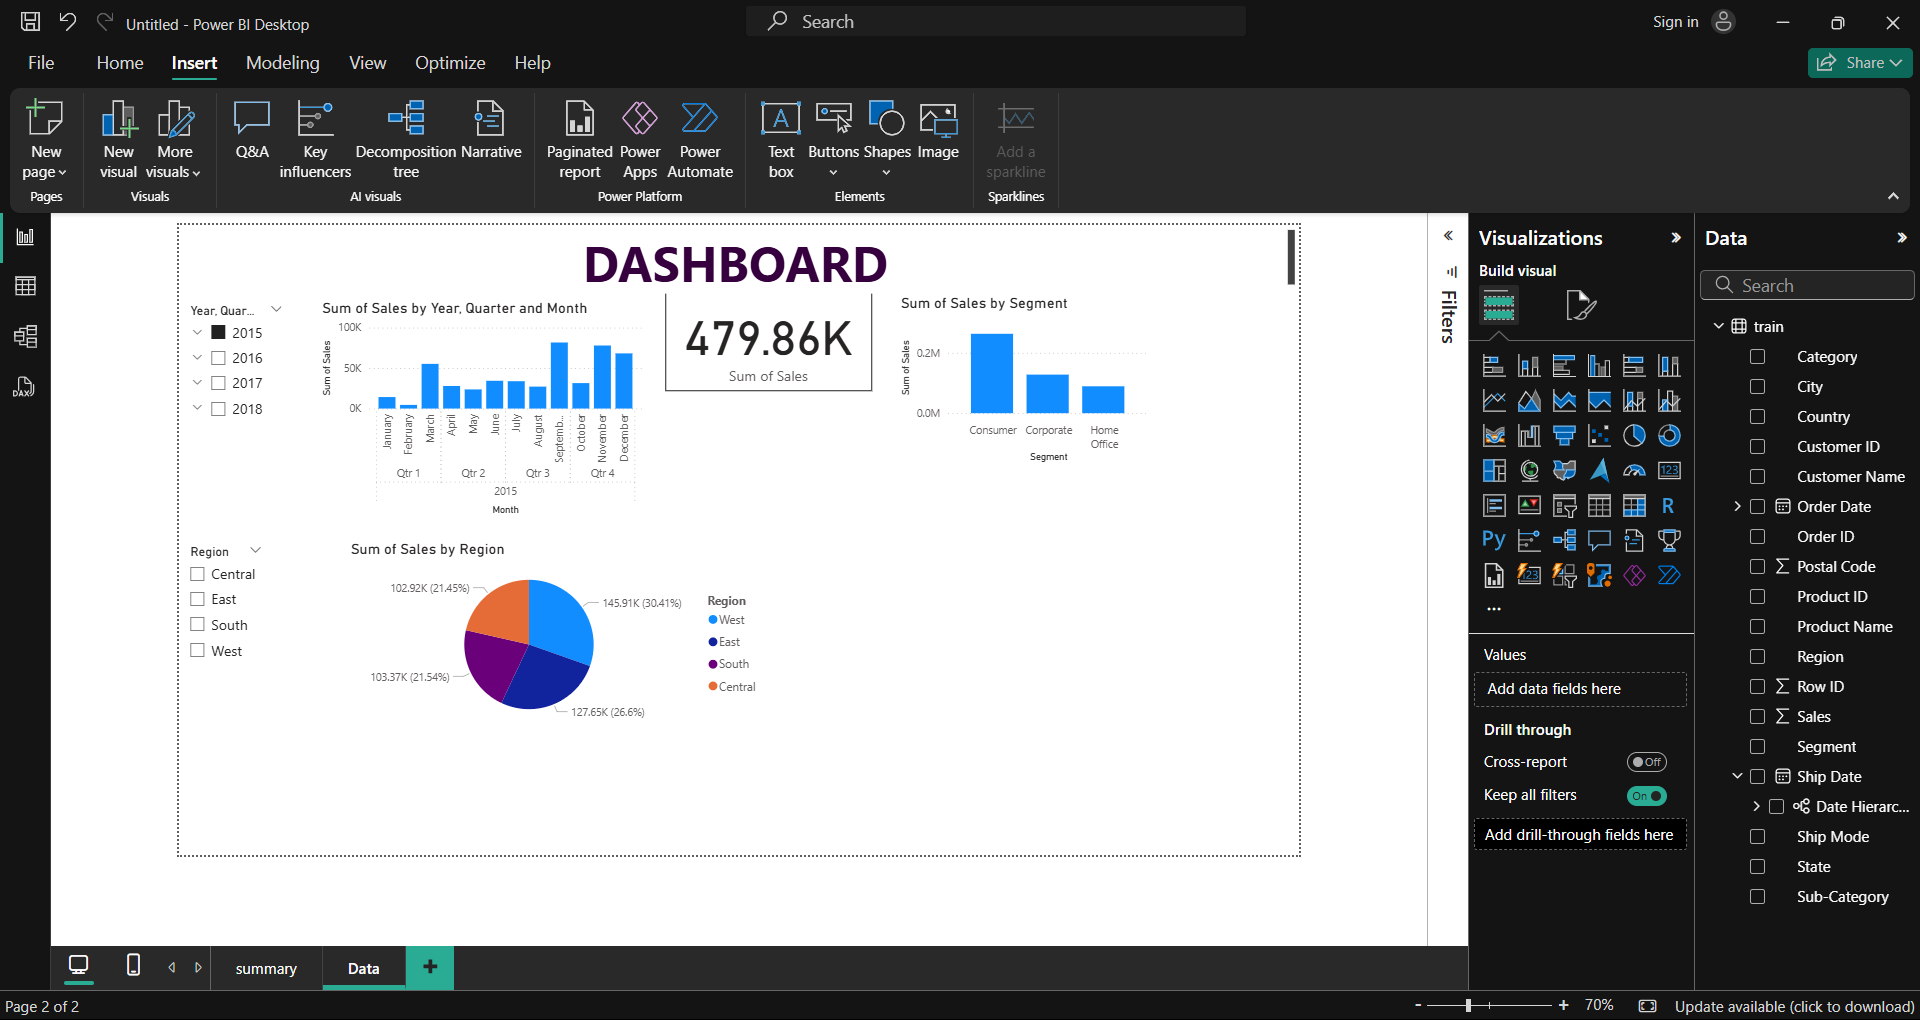

The page's visual inventory and layout, read from the dashboard file:
{"tool":"powerbi","page":{"name":"Data","canvas":[1280,720],"ordinal":1},"visuals":[{"type":"slicer","fields":{"Values":["train.Order Date.Variation.Date Hierarchy.Year","train.Order Date.Variation.Date Hierarchy.Quarter","train.Order Date.Variation.Date Hierarchy.Month"]},"box":[0,85,130,183.8],"z":0},{"type":"pieChart","fields":{"Y":["Sum(train.Sales)"],"Category":["train.Region"]},"box":[191.2,360,482.5,220],"z":1000},{"type":"slicer","fields":{"Values":["train.Region"]},"box":[0,360,106.2,168.8],"z":2000},{"type":"columnChart","fields":{"Y":["Sum(train.Sales)"],"Category":["train.Order Date.Variation.Date Hierarchy.Year","train.Order Date.Variation.Date Hierarchy.Quarter","train.Order Date.Variation.Date Hierarchy.Month"]},"box":[158.8,85,375,252.5],"z":3000},{"type":"card","fields":{"Values":["Sum(train.Sales)"]},"box":[556.2,75,236.2,115],"z":4000},{"type":"clusteredColumnChart","fields":{"Category":["train.Segment"],"Y":["Sum(train.Sales)"]},"box":[820,78.8,293.8,197.5],"z":4001},{"type":"textbox","box":[0,0,1280,78.3],"z":4002}]}

Visuals, with their boxes on the page's 1280x720 design canvas (x1, y1, x2, y2). These are canvas units, not pixel positions in the 1920x1020 screenshot, which may show the page scaled, cropped or inside an application window:
slicer - train.Order Date.Variation.Date Hierarchy.Year x train.Order Date.Variation.Date Hierarchy.Quarter: detection(0, 85, 130, 269)
pieChart - Sum(train.Sales) x train.Region: detection(191, 360, 674, 580)
slicer - train.Region: detection(0, 360, 106, 529)
columnChart - Sum(train.Sales) x train.Order Date.Variation.Date Hierarchy.Year: detection(159, 85, 534, 338)
card - Sum(train.Sales): detection(556, 75, 792, 190)
clusteredColumnChart - train.Segment x Sum(train.Sales): detection(820, 79, 1114, 276)
textbox: detection(0, 0, 1280, 78)
